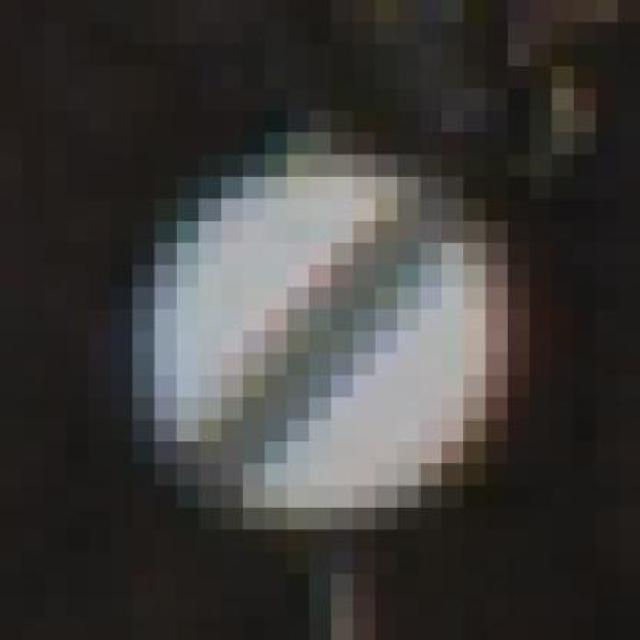End of all speed and passing limits: (88, 132, 530, 530)
